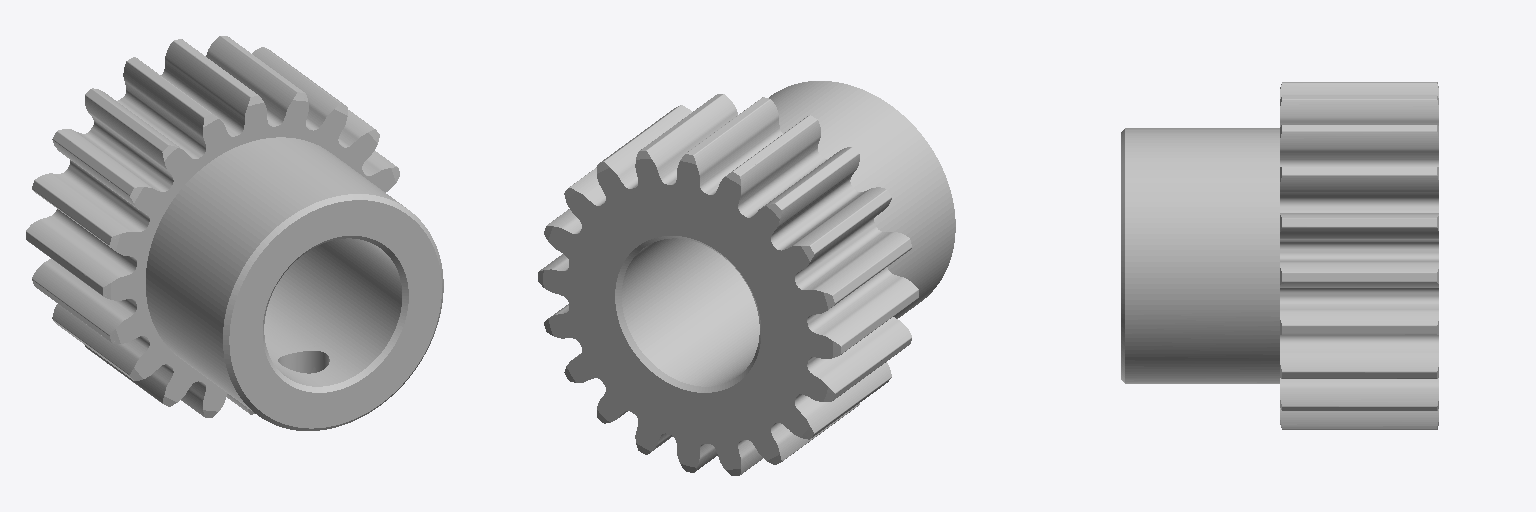
Rendered from industreal_gear_small.obj.
3 views of the same model, side by side, from view 1: azimuth 30°, elevation 25°; view 2: azimuth 150°, elevation 25°; view 3: azimuth 270°, elevation 25° (orthographic).
Parts seen in each view (by area): view 1: mesh0, mesh8, mesh11, mesh282, mesh3, mesh1, mesh233, mesh185, mesh226, mesh12, mesh192, mesh178 (+24 smaller); view 2: mesh15, mesh0, mesh11, mesh3, mesh233, mesh185, mesh226, mesh12, mesh192, mesh178, mesh219, mesh14 (+20 smaller); view 3: mesh0, mesh3, mesh227, mesh275, mesh268, mesh234, mesh283, mesh241, mesh261, mesh220, mesh125, mesh248 (+27 smaller).
Boxes of the visible parts, <box> form: mesh0: <box>146,137,405,338</box>; mesh8: <box>229,200,441,428</box>; mesh11: <box>264,242,401,386</box>; mesh282: <box>111,100,395,411</box>; mesh3: <box>146,284,251,410</box>; mesh1: <box>223,194,443,339</box>; mesh233: <box>209,36,296,106</box>; mesh185: <box>32,264,121,334</box>; mesh226: <box>166,42,249,113</box>; mesh12: <box>329,238,401,294</box>; mesh192: <box>26,220,117,286</box>; mesh178: <box>52,304,137,374</box>; mesh15: <box>543,159,832,469</box>; mesh0: <box>769,81,955,272</box>; mesh11: <box>622,242,759,386</box>; mesh3: <box>892,227,955,318</box>; mesh233: <box>647,94,735,165</box>; mesh185: <box>823,323,911,392</box>; mesh226: <box>694,100,778,172</box>; mesh12: <box>622,238,694,294</box>; mesh192: <box>826,278,917,345</box>; mesh178: <box>806,362,891,432</box>; mesh219: <box>740,121,820,192</box>; mesh14: <box>615,296,760,392</box>; mesh0: <box>1125,128,1279,309</box>; mesh3: <box>1125,310,1279,383</box>; mesh227: <box>1280,100,1438,116</box>; mesh275: <box>1280,389,1438,405</box>; mesh268: <box>1280,355,1438,370</box>; mesh234: <box>1280,132,1438,147</box>; mesh283: <box>1280,410,1438,425</box>; mesh241: <box>1280,176,1438,189</box>; mesh261: <box>1280,312,1438,324</box>; mesh220: <box>1280,83,1438,98</box>; mesh125: <box>1280,335,1438,344</box>; mesh248: <box>1280,228,1438,237</box>.
Size of the model in its own units: 0.022 by 0.022 by 0.02.